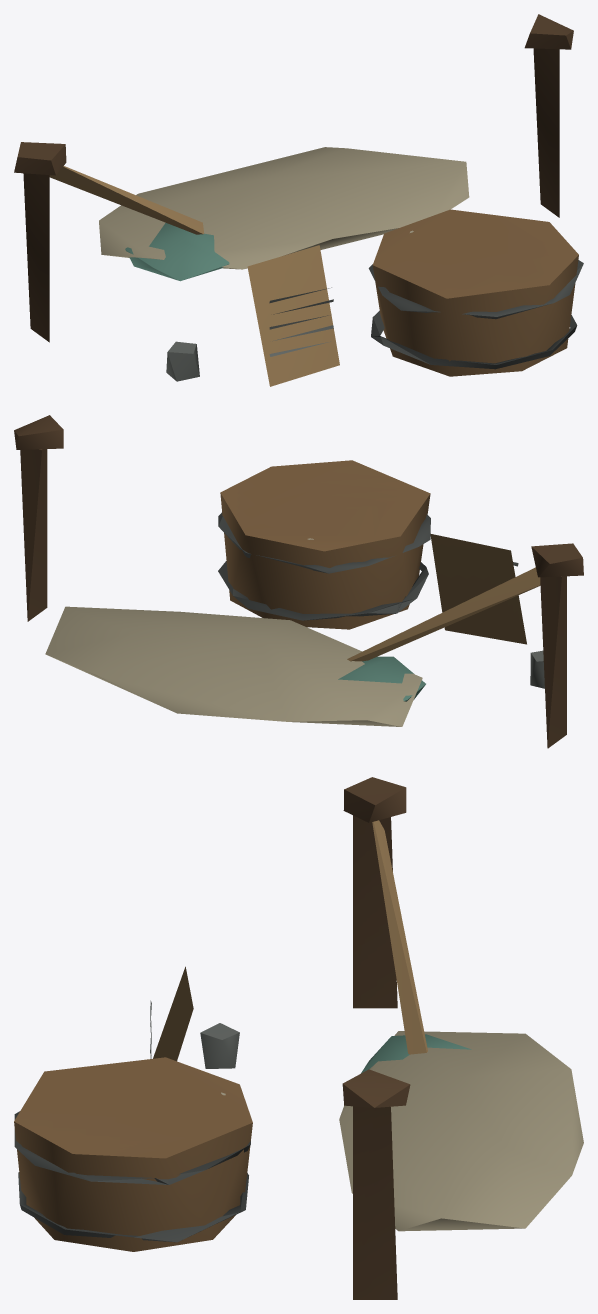
File: washline_c_lod2.glb
3 renders of one model, top to bottom at view 1: azimuth 30°, elevation 25°; view 2: azimuth 150°, elevation 25°; view 3: azimuth 270°, elevation 25°, orthographic. The views are drawn at different scales.
Visible parts, largest first — view 1: Surface.001; view 2: Surface.001; view 3: Surface.001.
Part boxes in pixels (x1,y1,x2,y2): Surface.001: (14, 14, 583, 386); Surface.001: (14, 415, 583, 748); Surface.001: (14, 777, 583, 1299).
Size of the model in its own units: 4.39 by 1.47 by 3.3.
